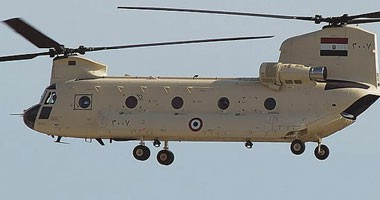chinook: (1, 5, 379, 162)
